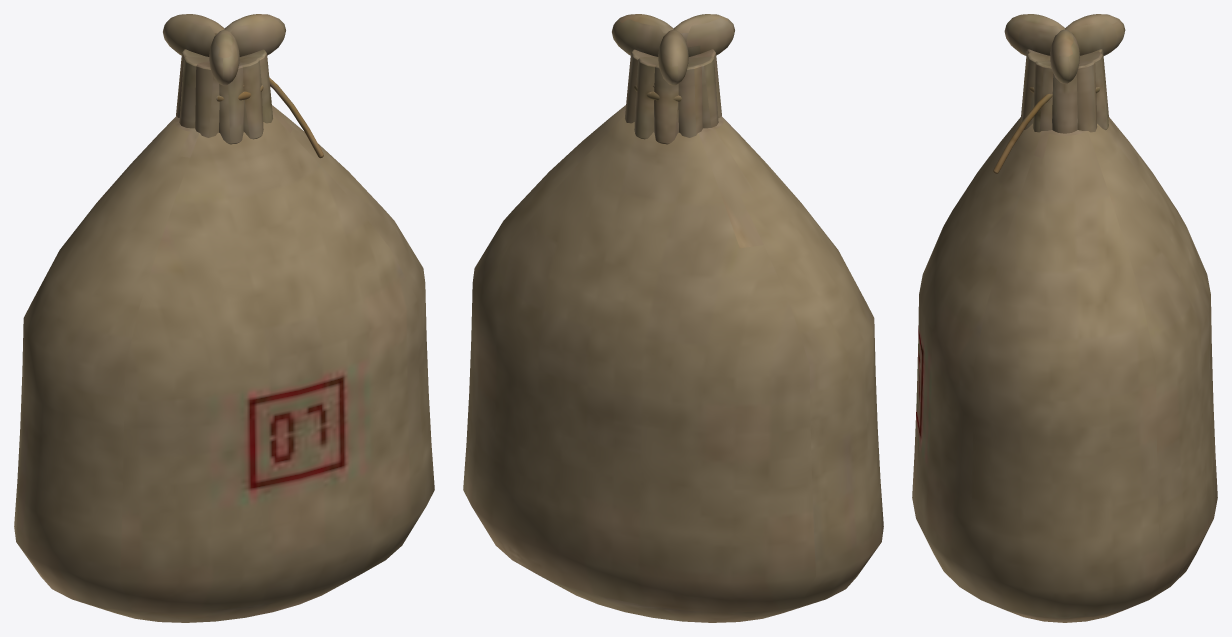
File: grain_sack.glb
The picture shows the model from 3 angles, left to right: view 1: azimuth 30°, elevation 25°; view 2: azimuth 150°, elevation 25°; view 3: azimuth 270°, elevation 25°; orthographic projection. The views are drawn at different scales.
Visible parts, largest first — view 1: grain_sack; view 2: grain_sack; view 3: grain_sack.
Part boxes in pixels (x1=…): grain_sack: x1=14, y1=14, x2=434, y2=622; grain_sack: x1=463, y1=14, x2=883, y2=622; grain_sack: x1=912, y1=14, x2=1217, y2=622.
Bounding box in the file's own units: 0.4425 × 0.624 × 0.3055.
Materials: 1 (1 with a texture image).
